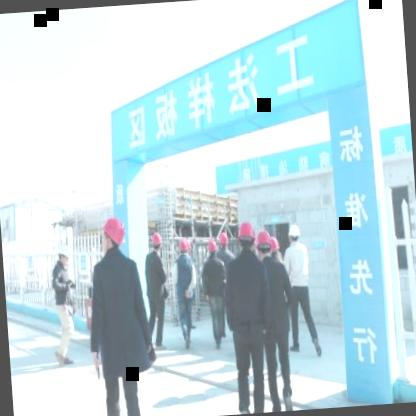helmet: (98, 215, 126, 254), (238, 219, 258, 252), (254, 229, 274, 256), (57, 242, 71, 267), (287, 223, 302, 246), (176, 235, 190, 254), (150, 232, 162, 252), (269, 234, 280, 255), (218, 231, 230, 248), (207, 239, 218, 254)
